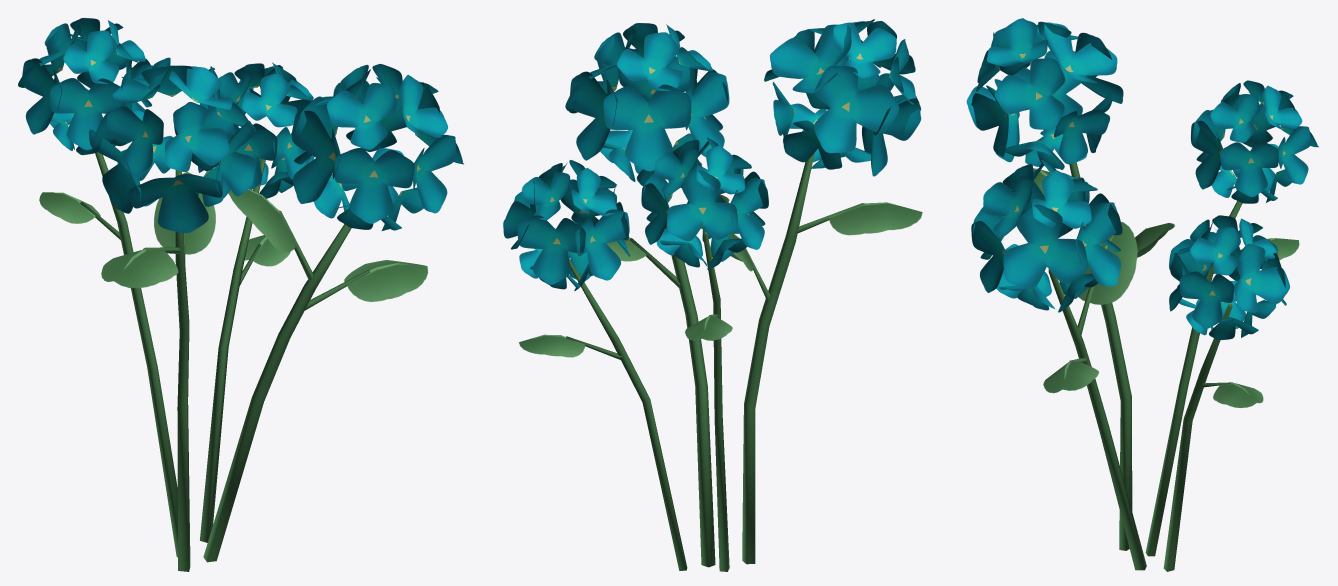
File: prop_sn_flower_1_clump.glb
3 renders of one model, left to right at view 1: azimuth 30°, elevation 25°; view 2: azimuth 150°, elevation 25°; view 3: azimuth 270°, elevation 25°, orthographic. The views are drawn at different scales.
Visible parts, largest first — view 1: Flower_1_Clump; view 2: Flower_1_Clump; view 3: Flower_1_Clump.
Boxes of the visible parts, x1,y1,x2,y2 form: Flower_1_Clump: [18, 18, 463, 571]; Flower_1_Clump: [503, 19, 922, 571]; Flower_1_Clump: [966, 18, 1318, 571].
Size of the model in its own units: 0.4711 by 0.6713 by 0.4352.
Materials: 1 (1 with a texture image).
